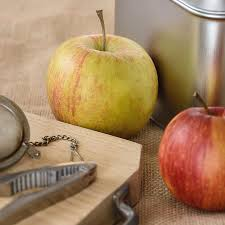apple: (47, 34, 153, 137), (157, 106, 225, 210)
